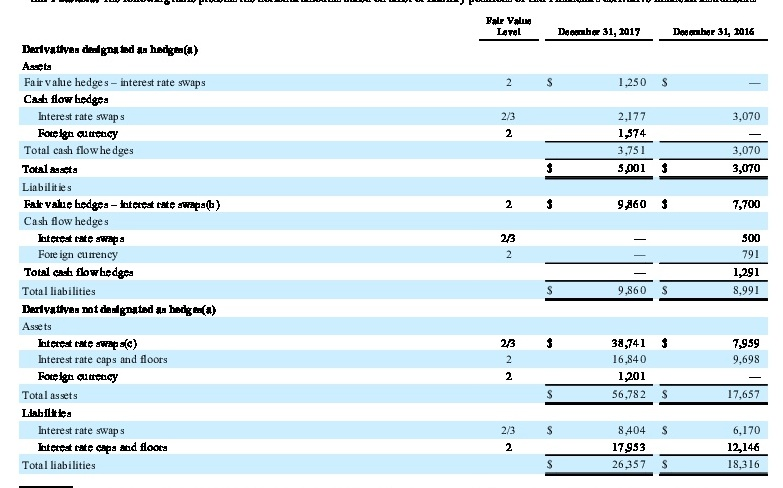table: (0, 0, 783, 488)
